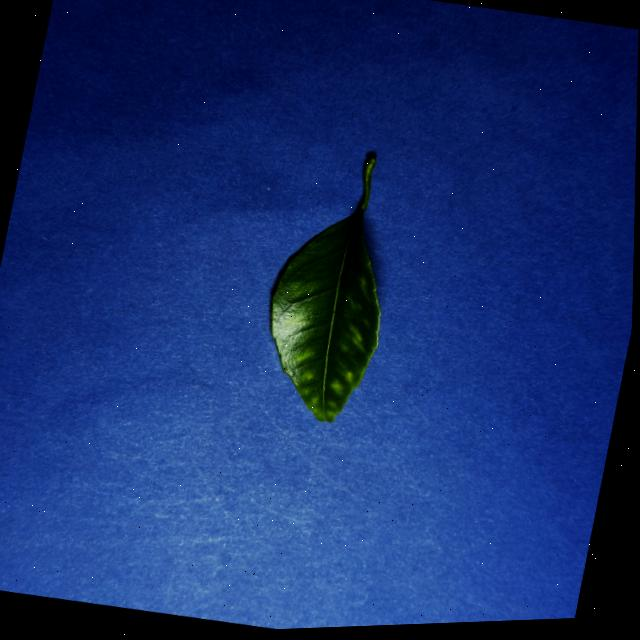greening: (270, 156, 378, 421)
